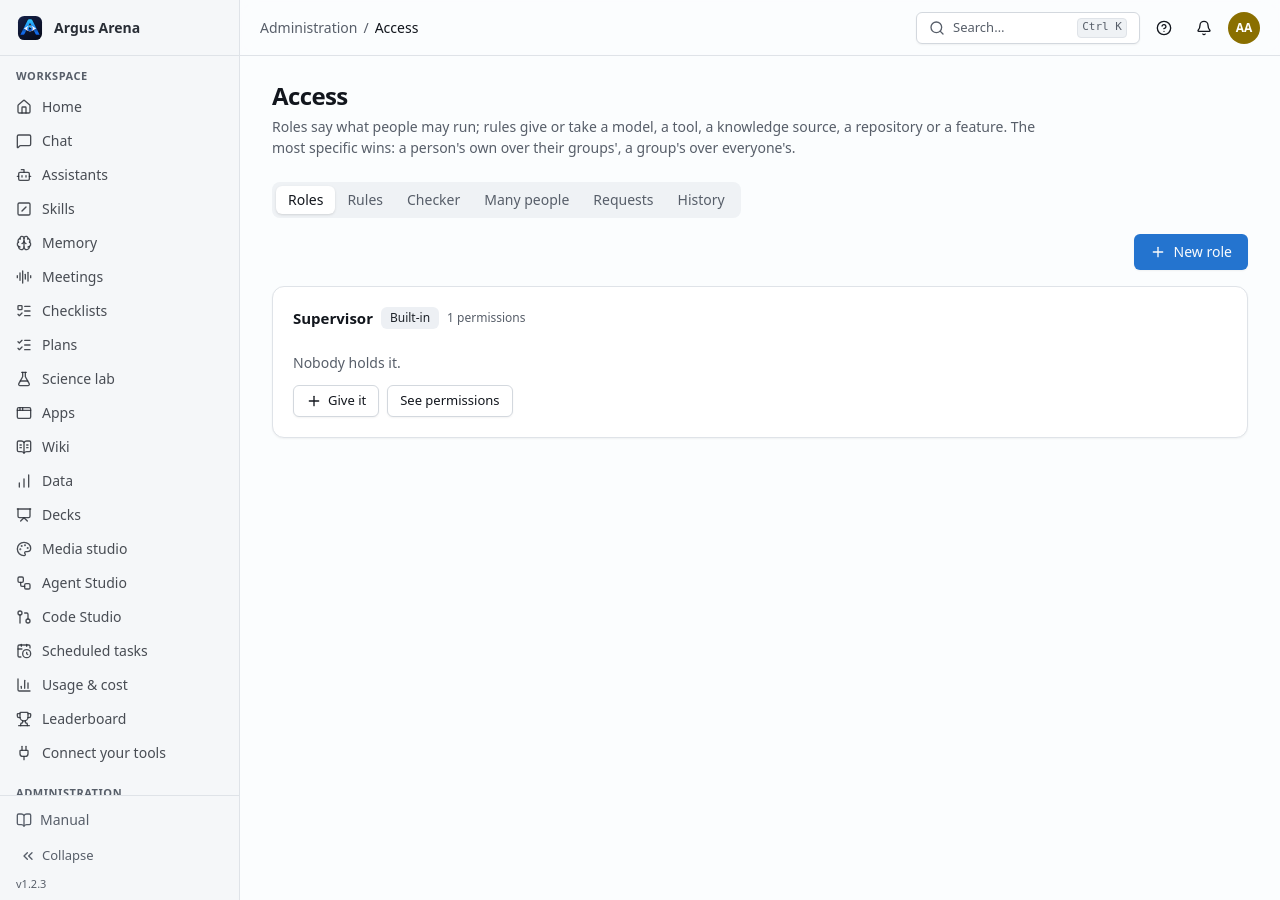
Scenario: changes to many people at once › runs dry first, shows person by person what would change, then makes the changes
Step 1. Click the tab "Many people" → x=527, y=200, box [472,186,581,214]
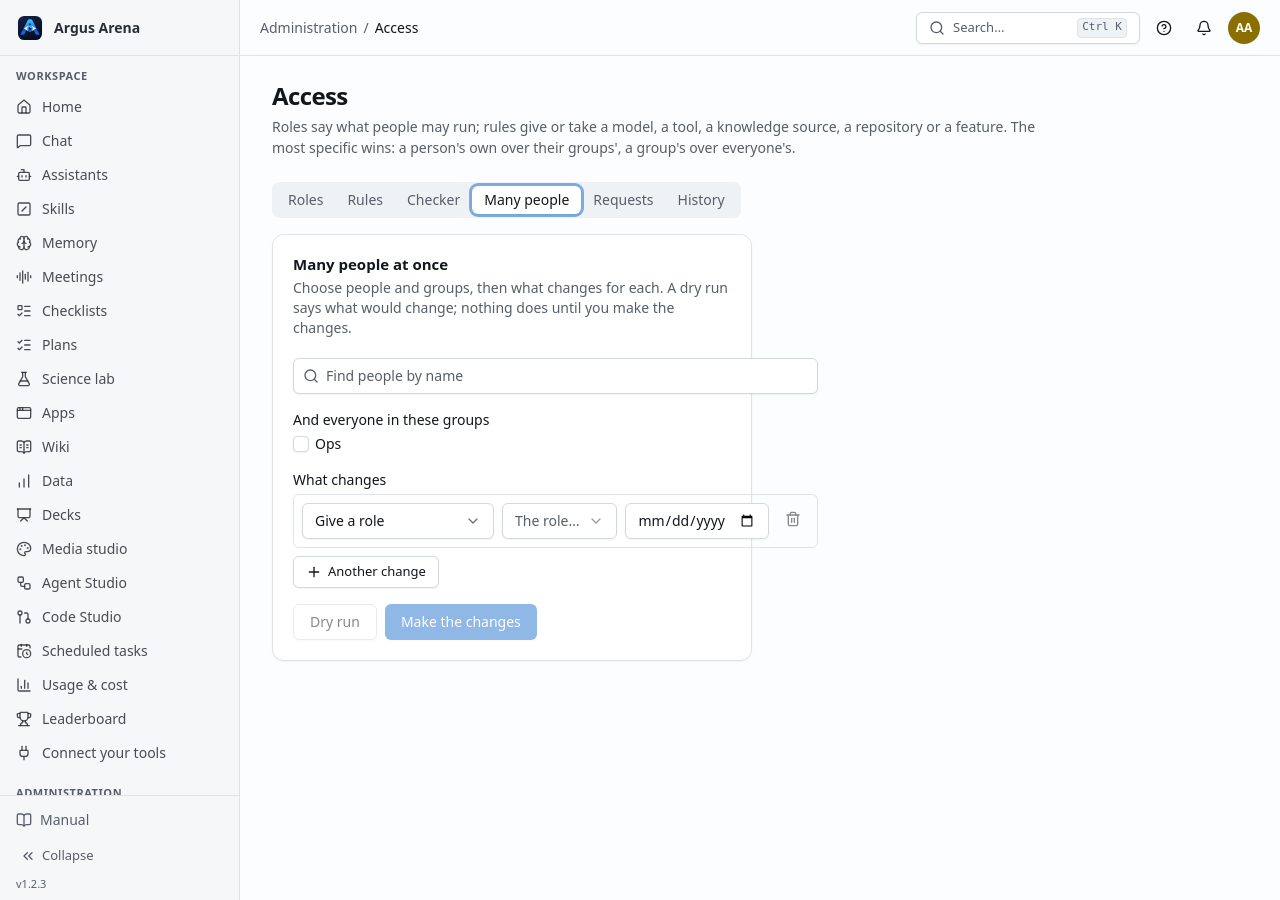
Step 2. Click the checkbox named "Ops" → x=301, y=444, box [293,436,309,452]
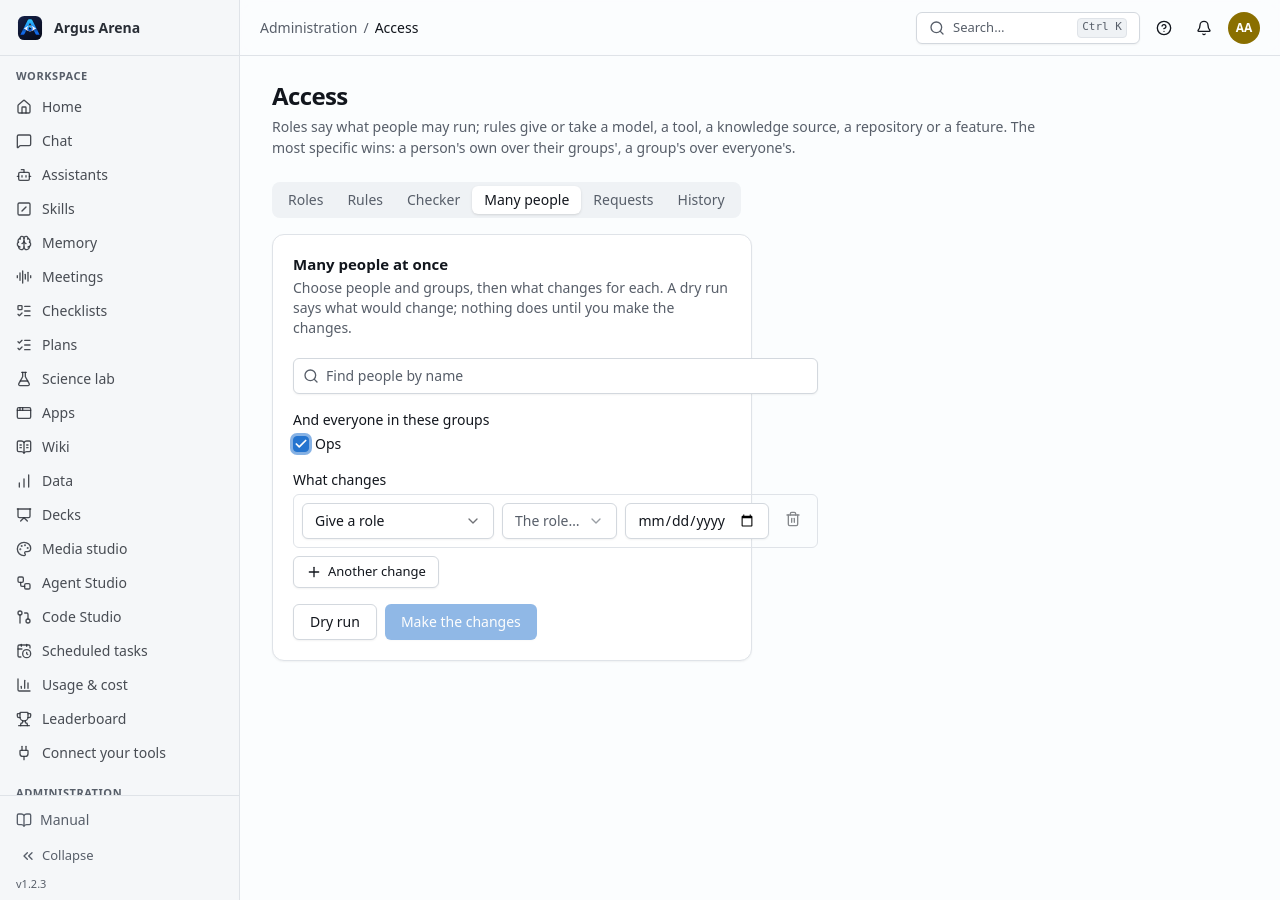
Step 3. Click the dropdown named "Change 1: the role" → x=559, y=521, box [502,503,616,539]
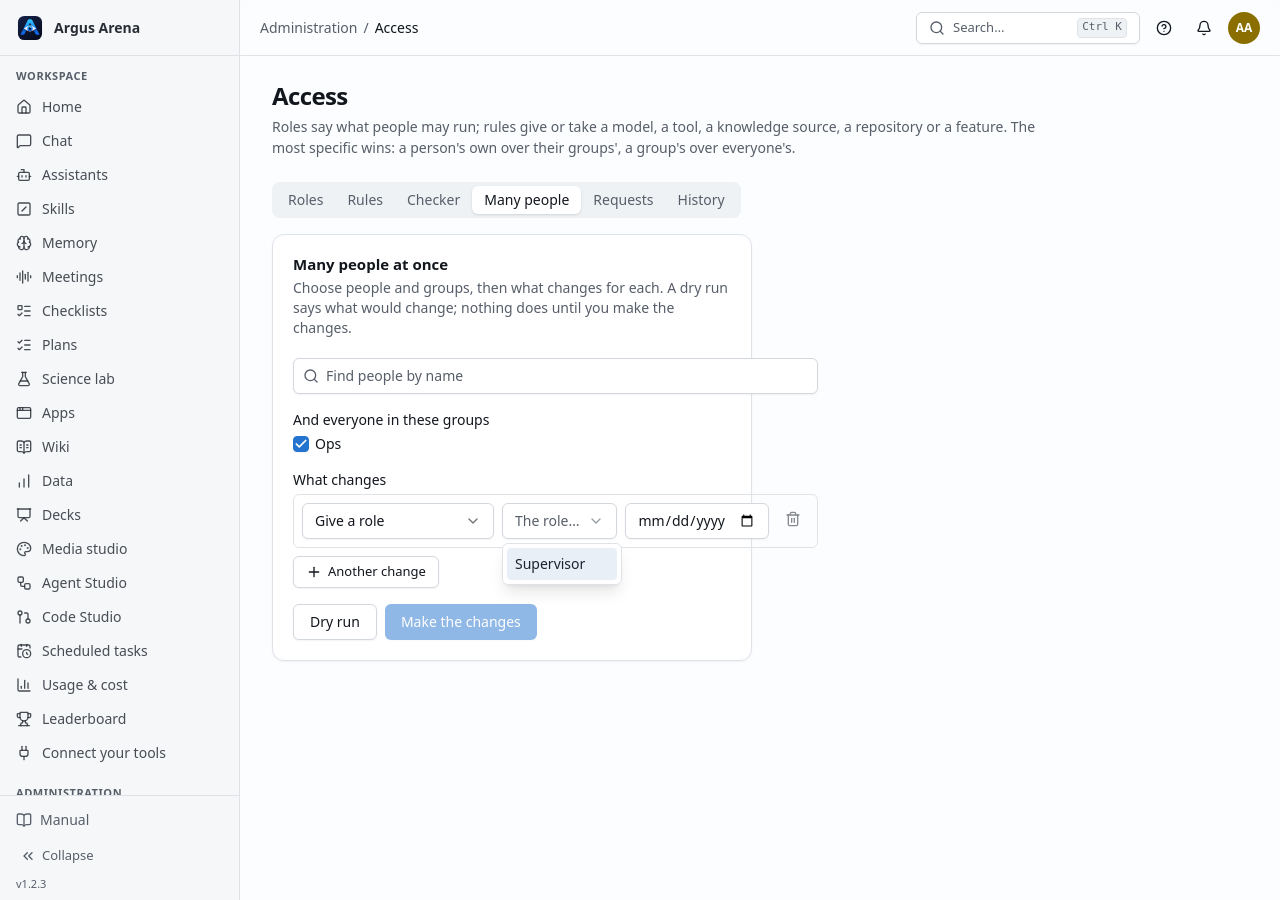
Step 4. Click the option "Supervisor" → x=562, y=564, box [507,548,617,580]
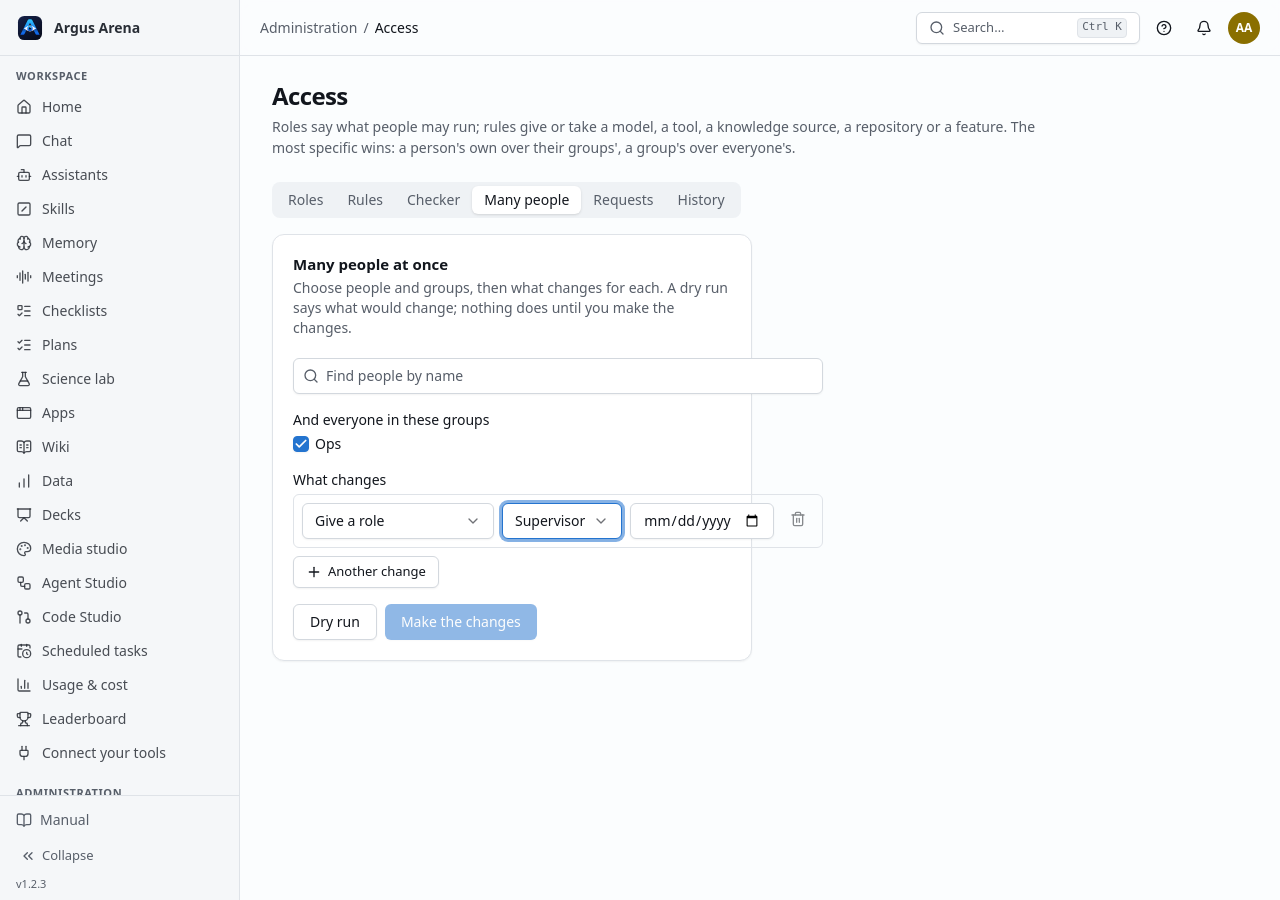
Expected: the button "Make the changes" is disabled, [385,604,537,640]
Step 5. Click the button "Dry run" → x=335, y=622, box [293,604,377,640]
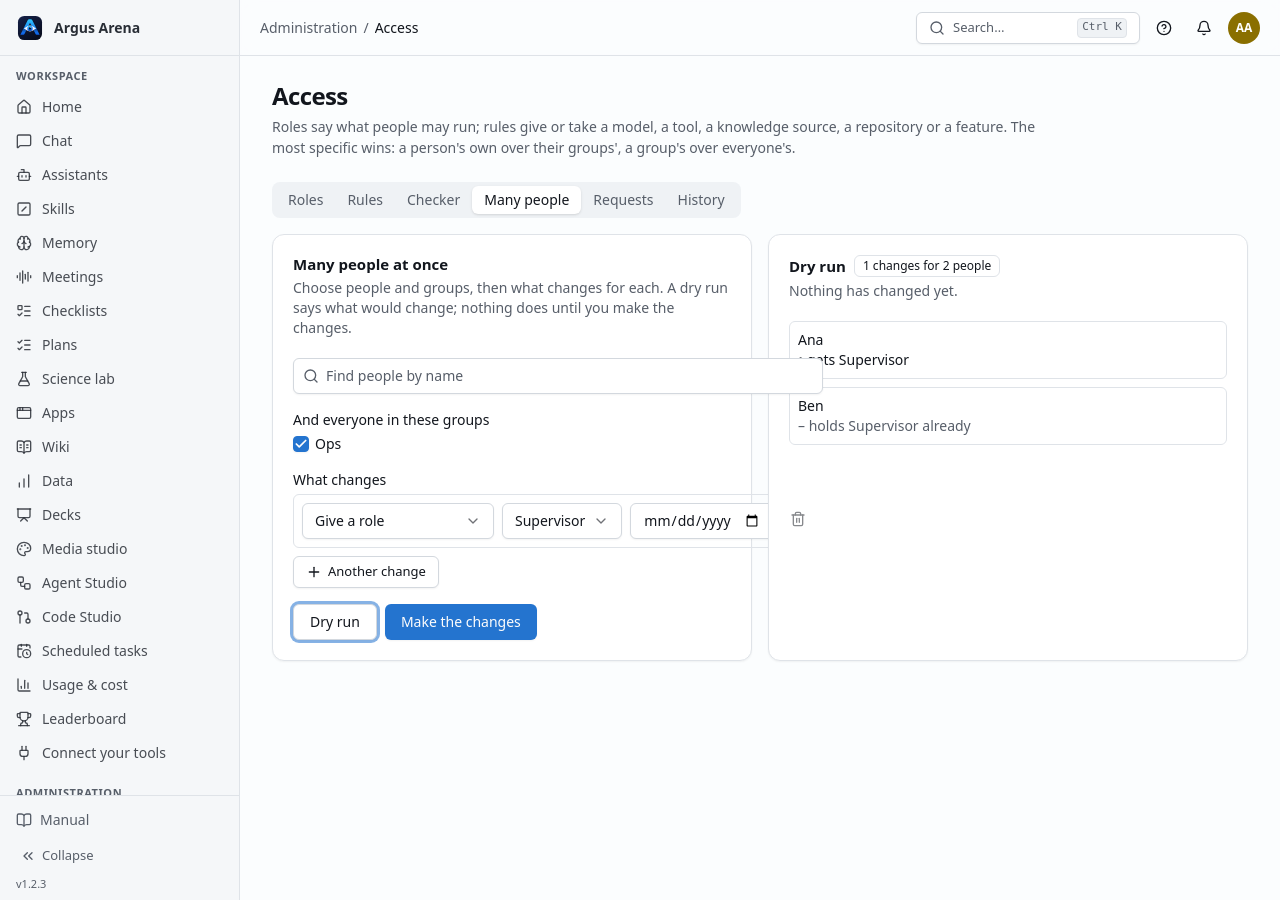
Expected: the text "• gets Supervisor" is shown, [798,350,909,369]
Expected: the text "– holds Supervisor already" is shown, [798,416,971,435]
Step 6. Click the button "Make the changes" → x=461, y=622, box [385,604,537,640]
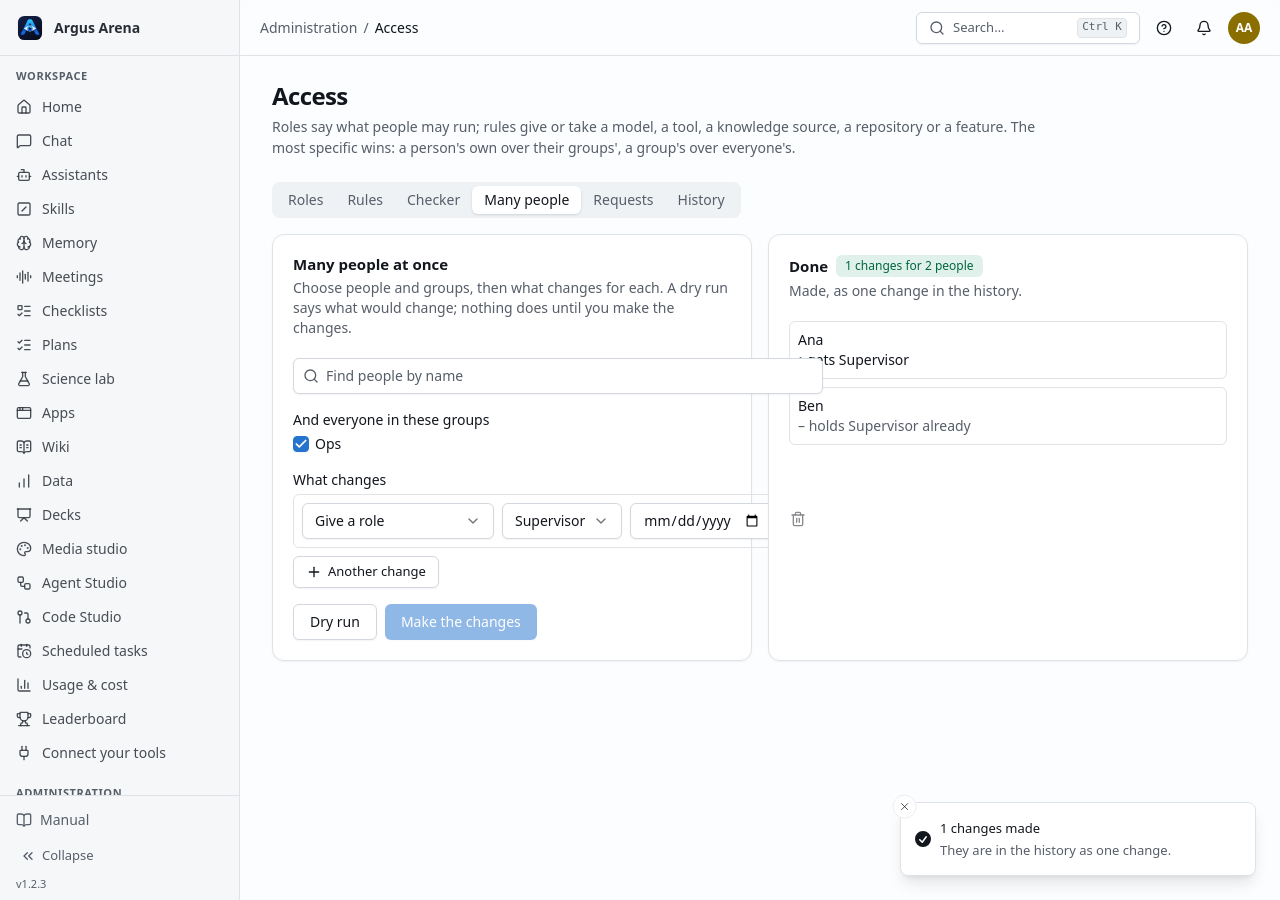
Expected: the text "Made, as one change in the history." is shown, [789,281,1022,300]
